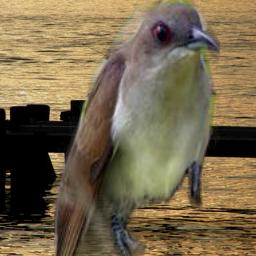Cuckoo: (54, 0, 220, 256)
